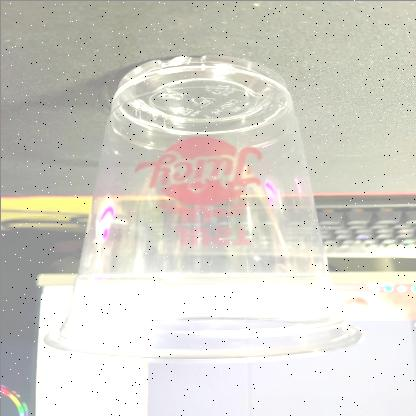Others: (40, 51, 364, 363)
